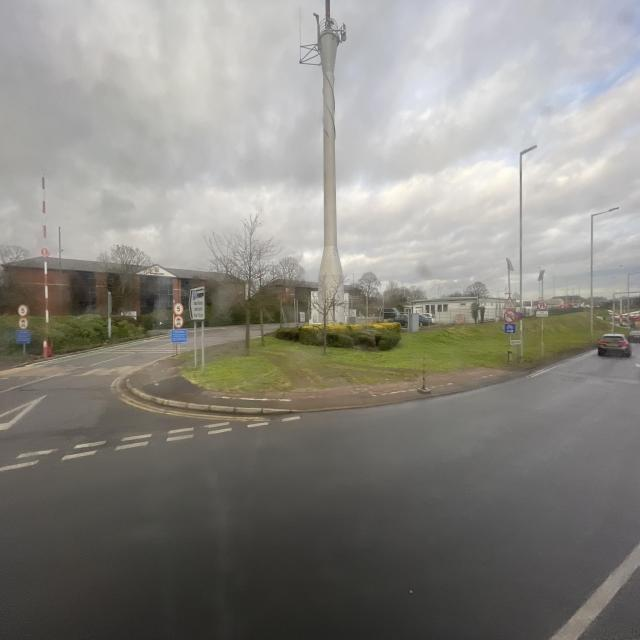car: (597, 333, 631, 358), (628, 328, 640, 342)
